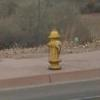Hydrant: (39, 23, 70, 77)
